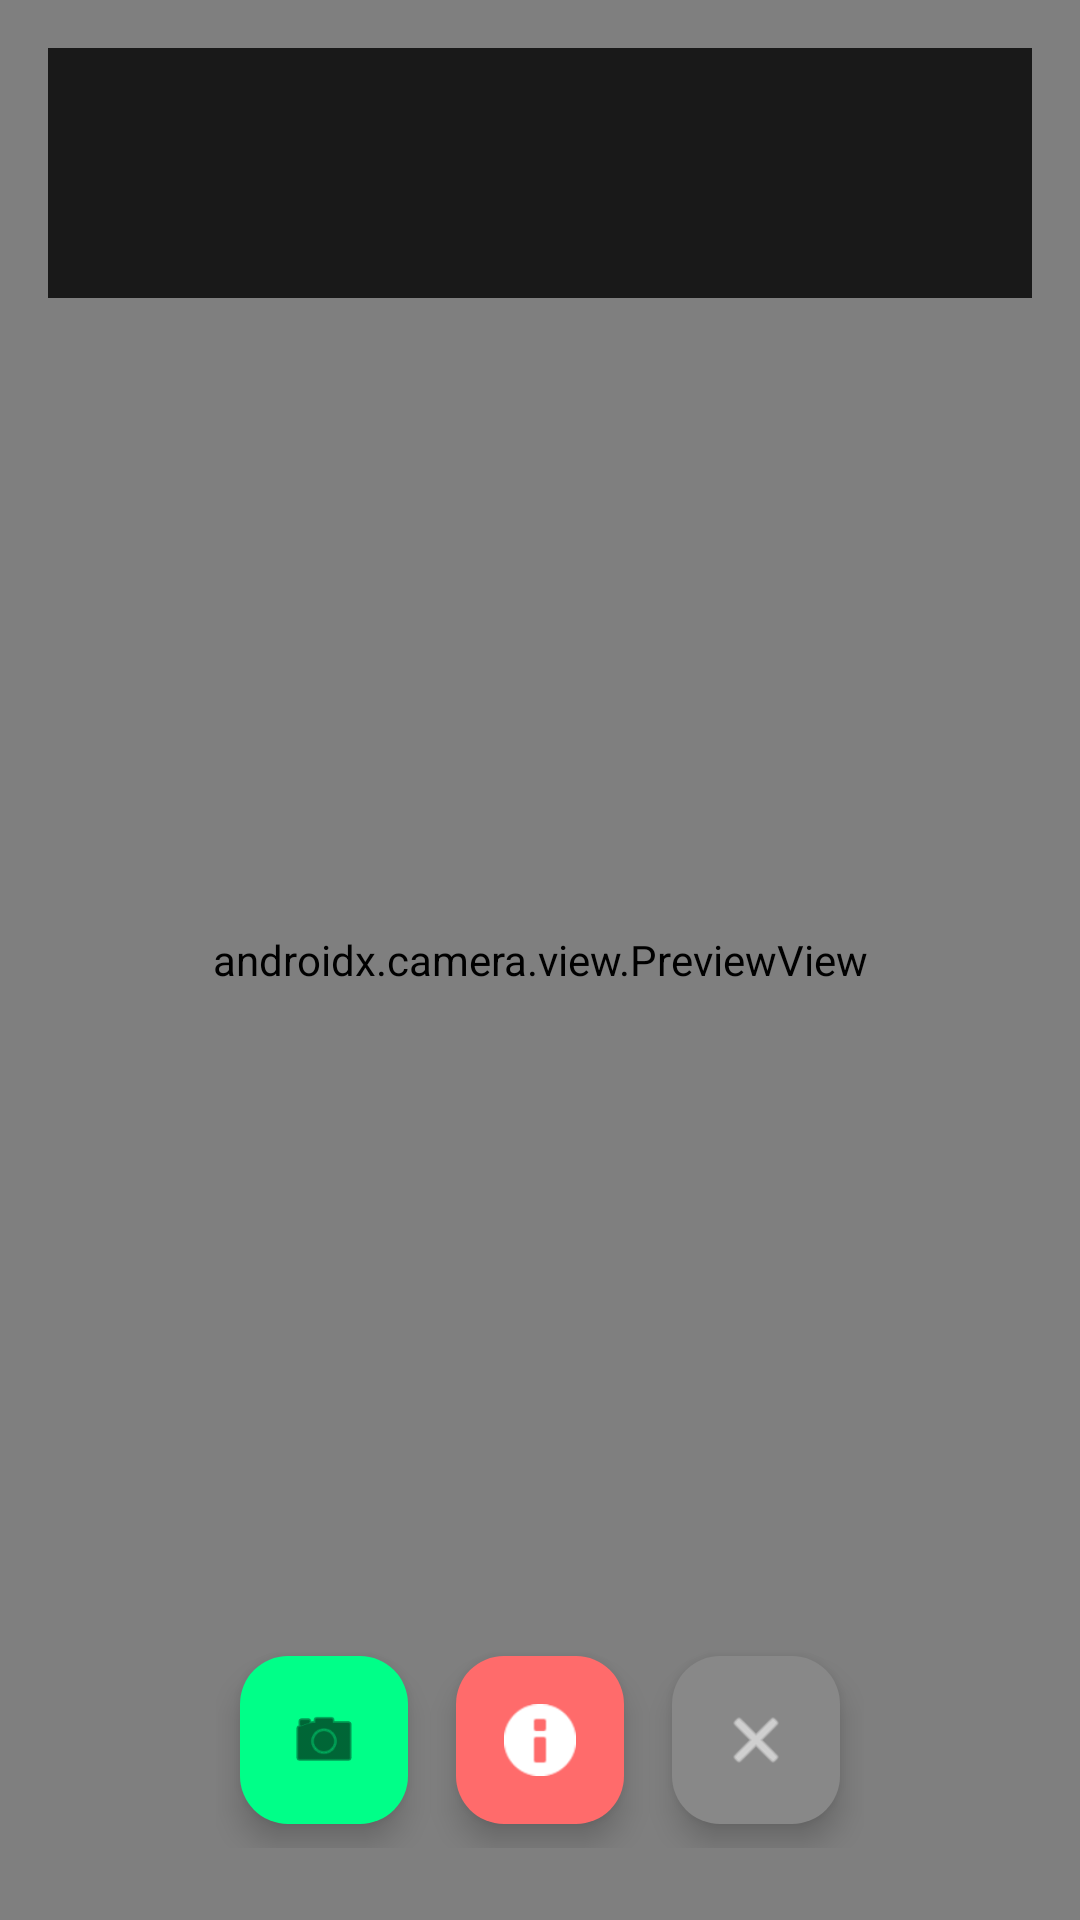

Icons on this 1080x1920 Android screen, each with its box as (x1, y1, x2, y2):
close clear cancel: (672, 1656, 840, 1824)
info: (456, 1656, 624, 1824)
